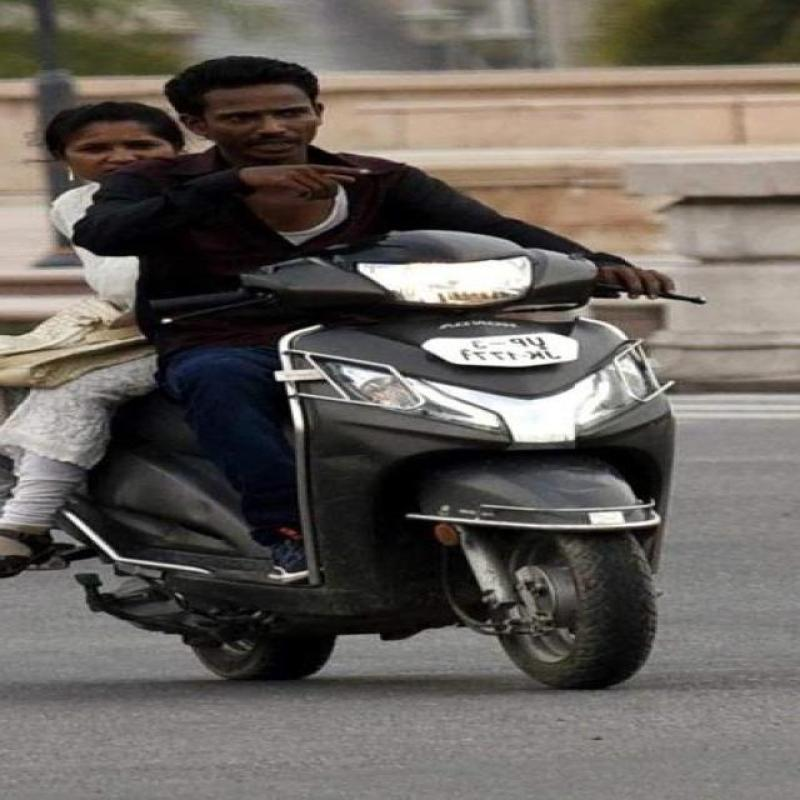nohelmet: (160, 54, 340, 161), (27, 97, 162, 198)
